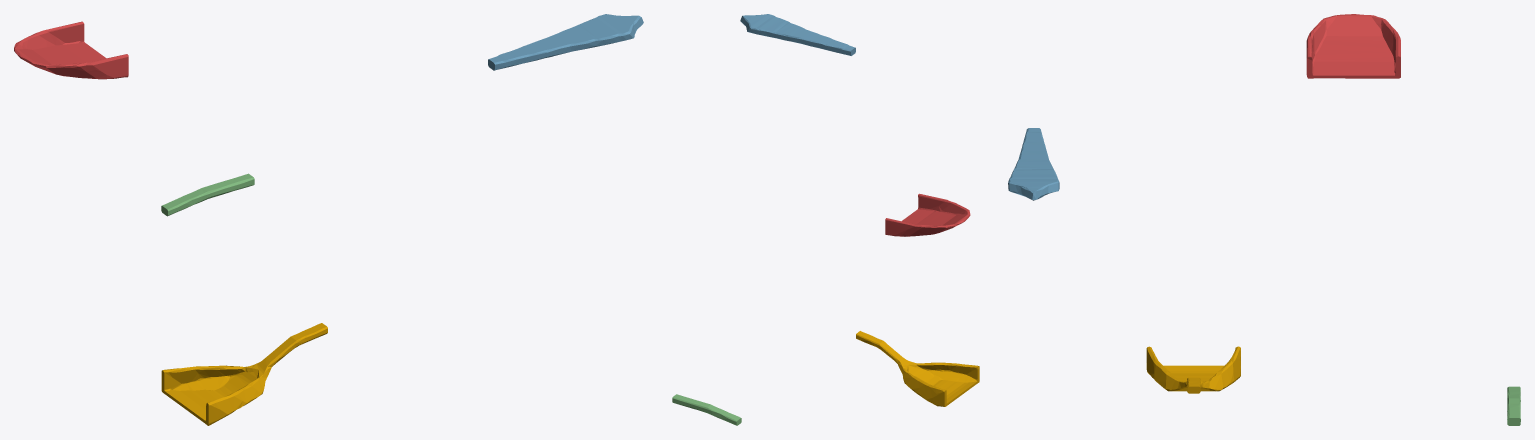
Rendered from mode_3_4pcs_transformed.glb.
3 renders of one model, left to right at view 1: azimuth 30°, elevation 25°; view 2: azimuth 150°, elevation 25°; view 3: azimuth 270°, elevation 25°, orthographic. The views are drawn at different scales.
Visible parts, largest first — view 1: piece_0.obj, piece_1.obj, piece_2.obj, piece_3.obj; view 2: piece_0.obj, piece_1.obj, piece_2.obj, piece_3.obj; view 3: piece_1.obj, piece_0.obj, piece_2.obj, piece_3.obj.
Boxes of the visible parts, x1,y1,x2,y2 form: piece_0.obj: [161, 323, 327, 425]; piece_1.obj: [14, 21, 128, 79]; piece_2.obj: [488, 14, 643, 70]; piece_3.obj: [161, 173, 254, 216]; piece_0.obj: [856, 331, 979, 406]; piece_1.obj: [885, 193, 970, 236]; piece_2.obj: [740, 14, 855, 55]; piece_3.obj: [672, 394, 741, 425]; piece_1.obj: [1306, 14, 1400, 78]; piece_0.obj: [1146, 346, 1240, 393]; piece_2.obj: [1008, 128, 1059, 200]; piece_3.obj: [1507, 386, 1520, 425].
Bounding box in the file's own units: 1 × 0.7481 × 0.9613.
